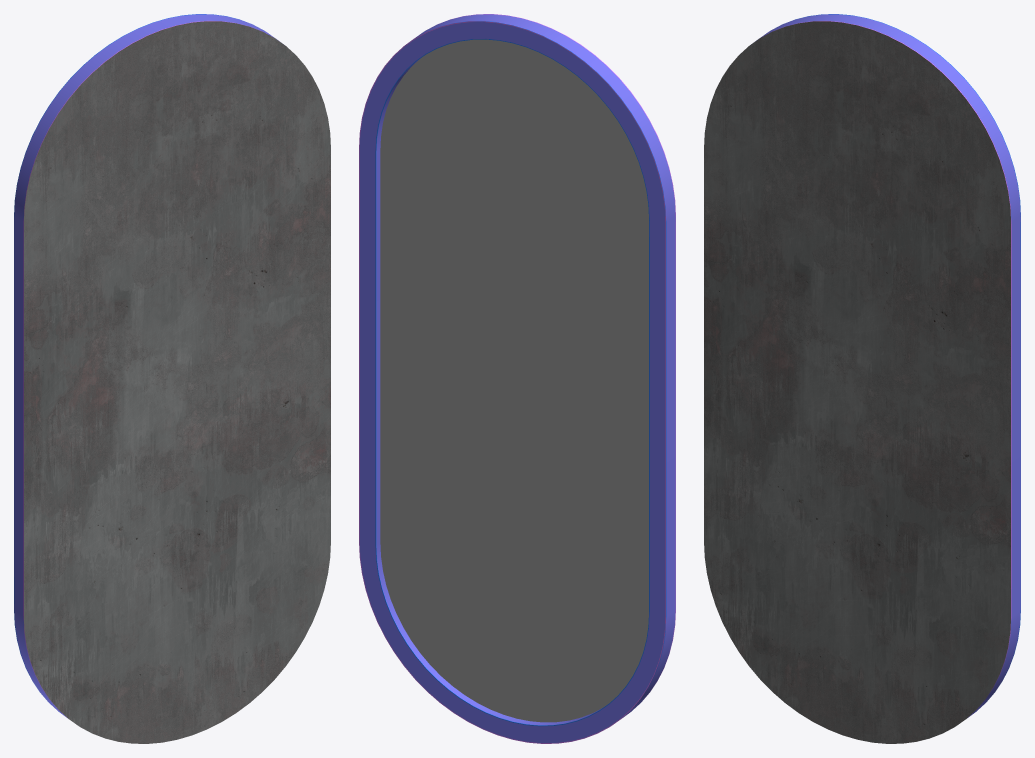
The model's file is mr009mirror001s001.fbx.
The picture shows the model from 3 angles, left to right: view 1: azimuth 30°, elevation 25°; view 2: azimuth 150°, elevation 25°; view 3: azimuth 330°, elevation 25°; orthographic projection.
Visible parts, largest first — view 1: mr009mirror001s001op01; view 2: mr009mirror001s001op02, mr009mirror001s001op01; view 3: mr009mirror001s001op01.
Boxes of the visible parts, left/top/right/bottom form: mr009mirror001s001op01: left=14, top=14, right=330, bottom=743; mr009mirror001s001op02: left=380, top=39, right=648, bottom=722; mr009mirror001s001op01: left=359, top=14, right=675, bottom=743; mr009mirror001s001op01: left=704, top=14, right=1020, bottom=743.
Size of the model in its own units: 112 by 250 by 6.25.
